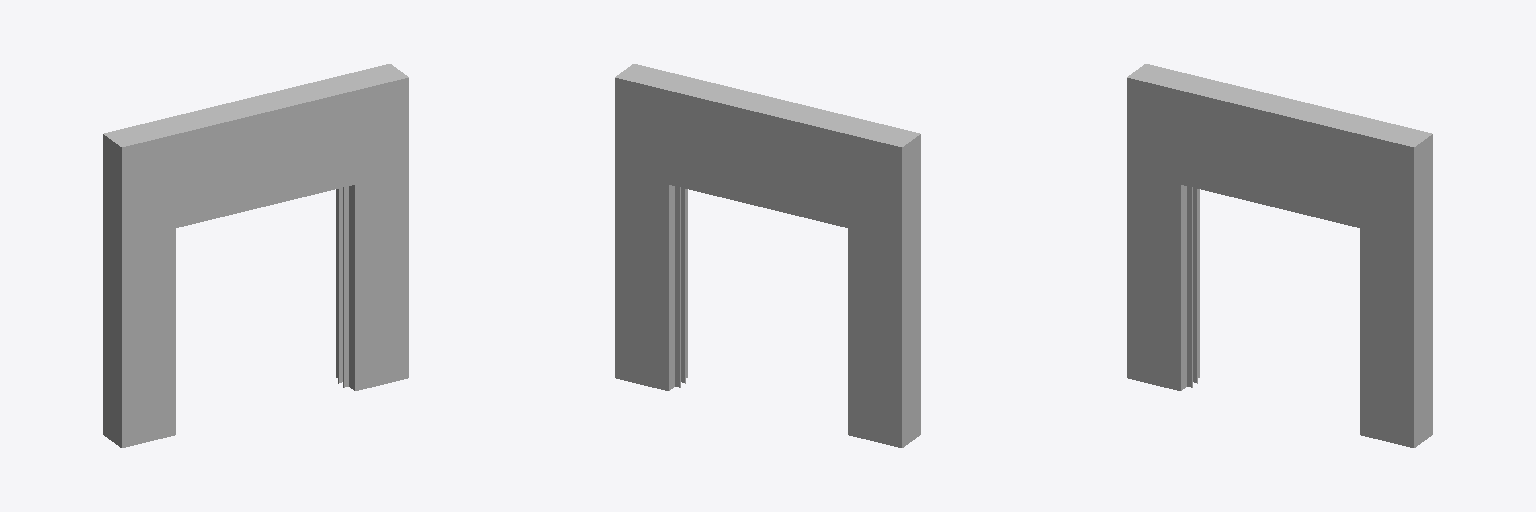
Rendered from concrete_door_base.obj.
3 views of the same model, side by side, from view 1: azimuth 30°, elevation 25°; view 2: azimuth 150°, elevation 25°; view 3: azimuth 330°, elevation 25° (orthographic).
Visible parts, largest first — view 1: concrete_door_base_concrete_door; view 2: concrete_door_base_concrete_door; view 3: concrete_door_base_concrete_door.
Boxes of the visible parts, x1,y1,x2,y2 form: concrete_door_base_concrete_door: [103, 64, 408, 447]; concrete_door_base_concrete_door: [615, 64, 920, 447]; concrete_door_base_concrete_door: [1127, 64, 1432, 447].
Size of the model in its own units: 3.5 by 3.5 by 0.4.